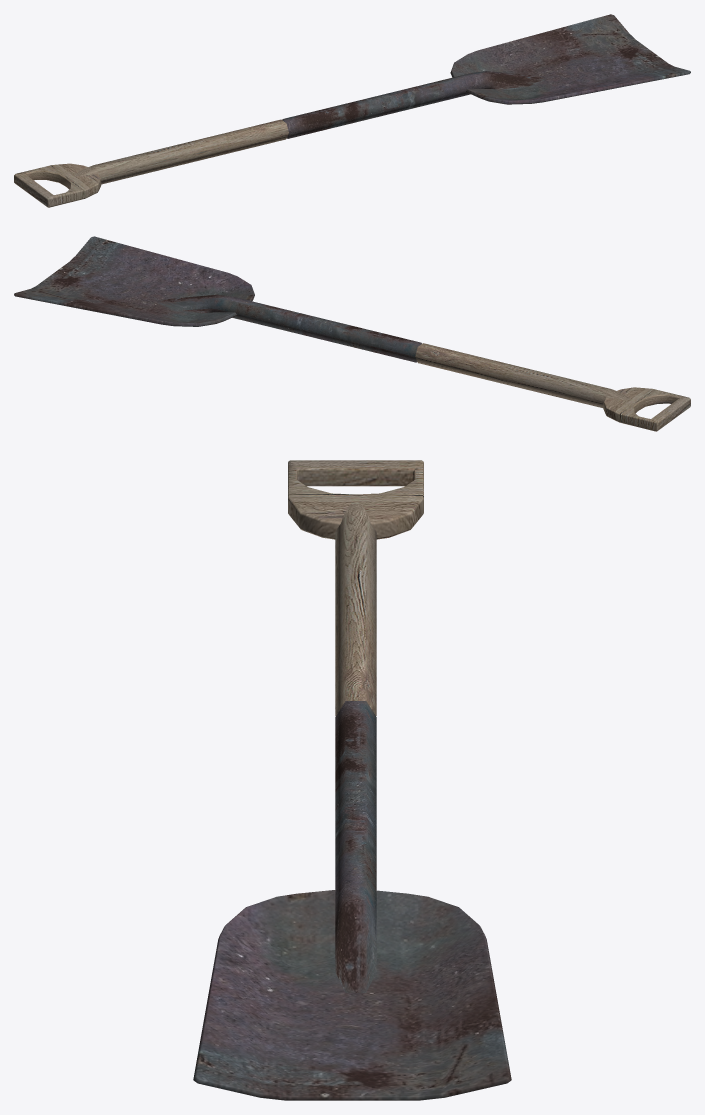
Rendered from SM_Shovel.FBX.
3 renders of one model, top to bottom at view 1: azimuth 30°, elevation 25°; view 2: azimuth 150°, elevation 25°; view 3: azimuth 270°, elevation 25°, orthographic. The views are drawn at different scales.
Visible parts, largest first — view 1: SM_Shovel; view 2: SM_Shovel; view 3: SM_Shovel.
Part boxes in pixels (box(x1,y1,x2,y2)): SM_Shovel: box(14, 14, 690, 207); SM_Shovel: box(14, 236, 690, 431); SM_Shovel: box(193, 460, 511, 1100).
Size of the model in its own units: 155 by 5.66 by 34.45.
